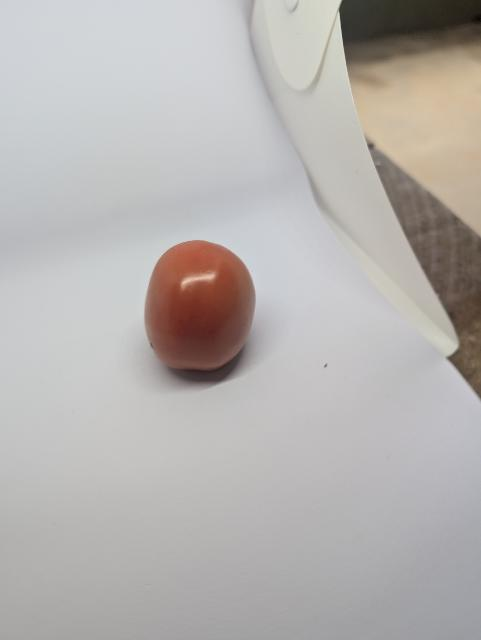red: (133, 231, 267, 382)
